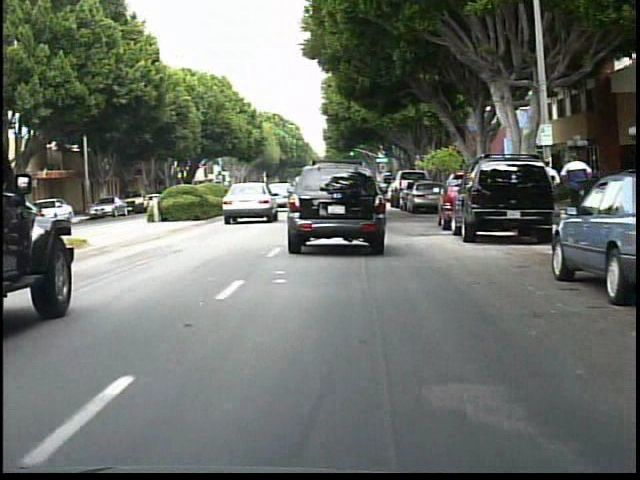person: (559, 146, 596, 224), (533, 155, 560, 223)
